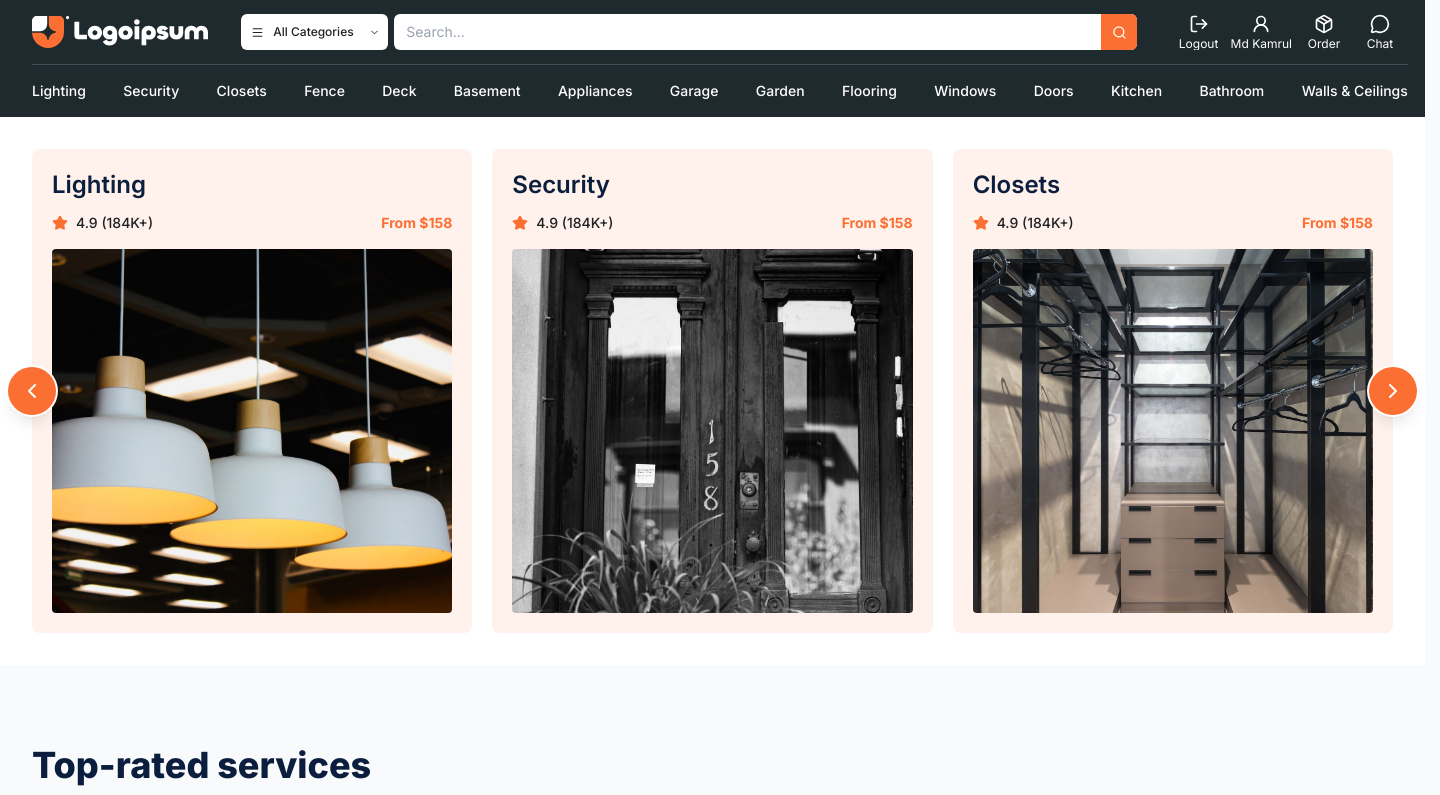
it: Account navbar integration › navigates to account settings from the desktop Account action
This screenshot has width=1440, height=795.
Click the link "Md Kamrul" at (1261, 32), box left=1227, top=14, right=1296, bottom=50
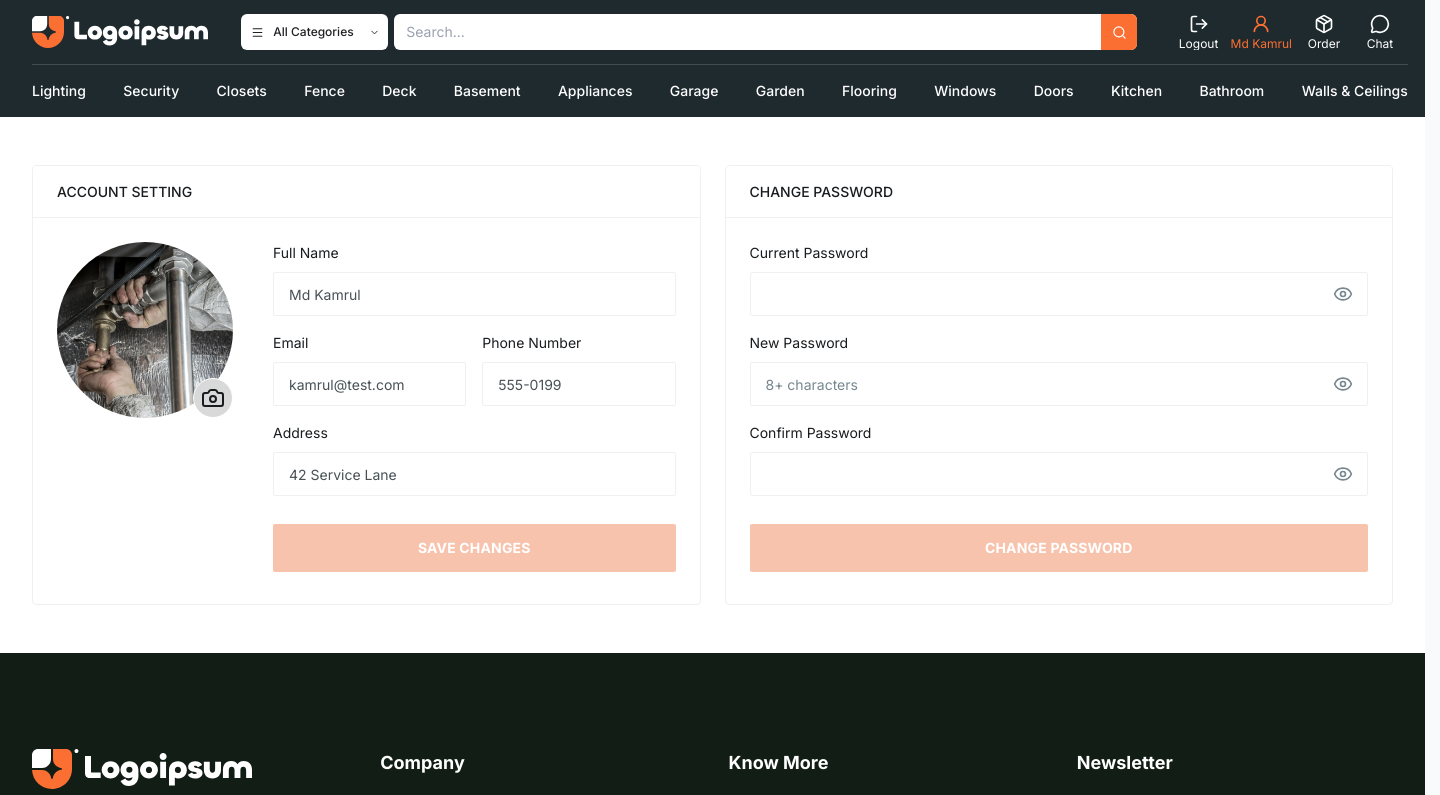
Expected: the element named "Account settings" is shown, left=32, top=165, right=700, bottom=605
